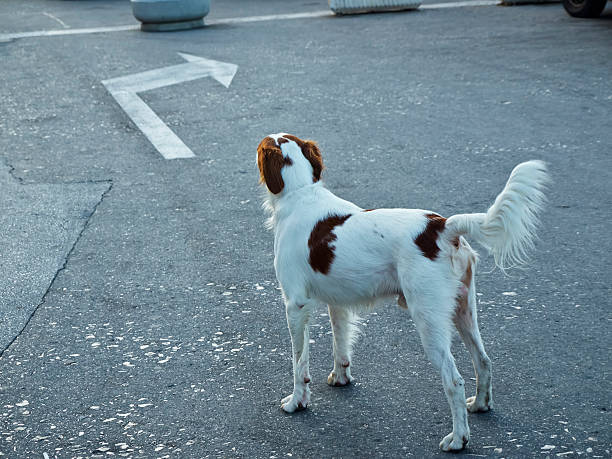kopek: (247, 124, 567, 458)
